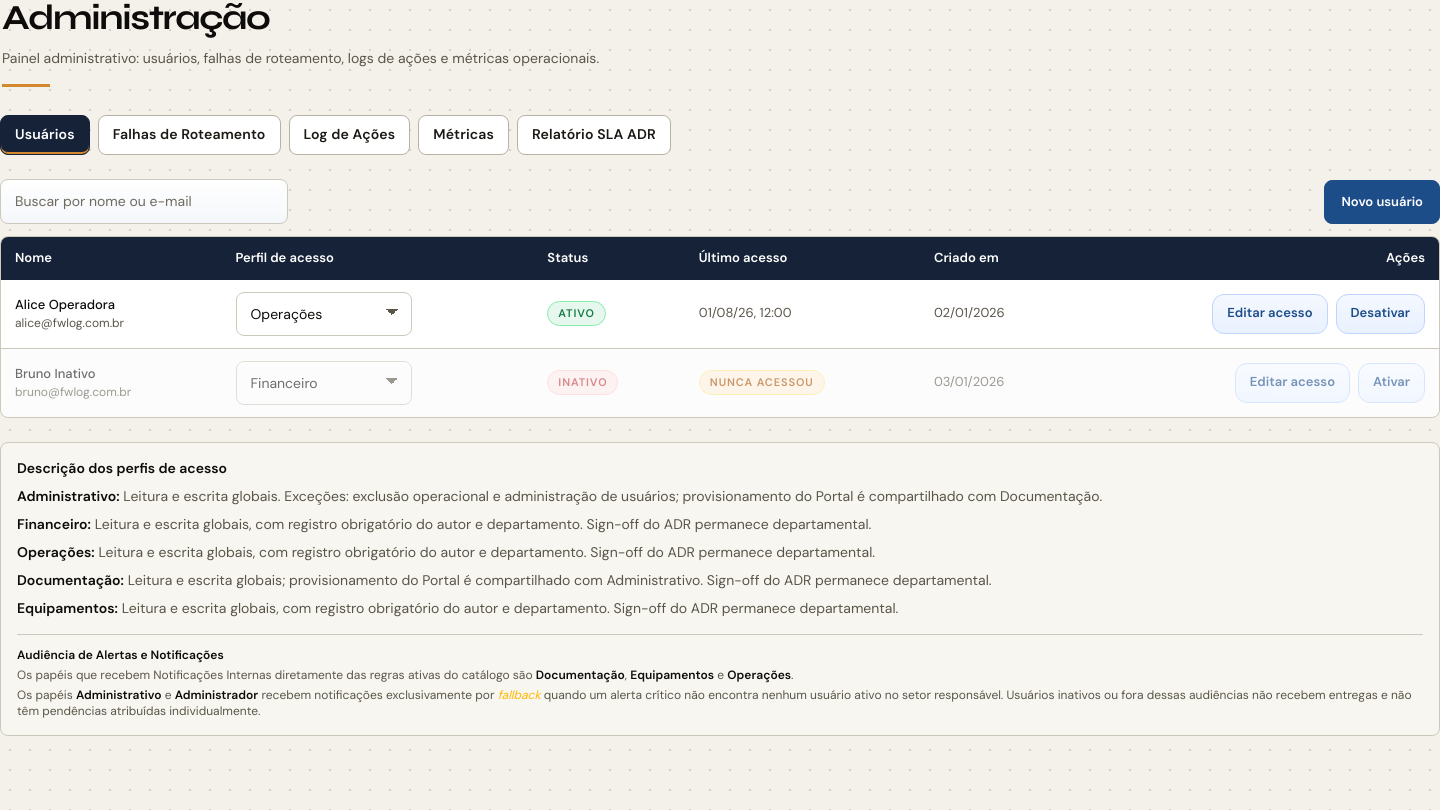
Test: recusa criacao quando a confirmacao de senha nao confere
Click the button "Novo usuário" at [1382, 202], box [1324, 180, 1439, 224]
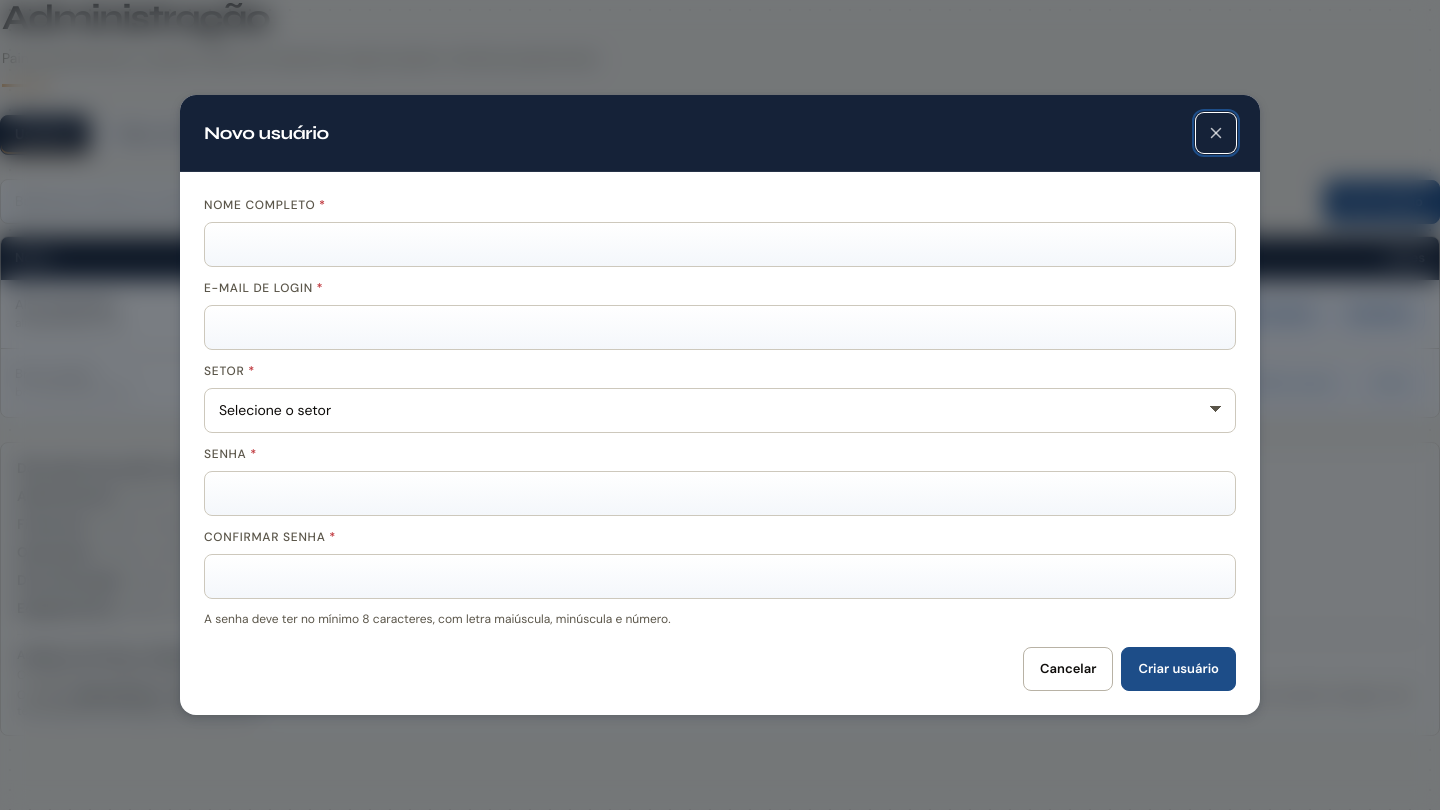
Type "Carla Nova" into the field labelled "Nome completo *" at [720, 244], box [204, 222, 1236, 267]
Type "carla@fwlog.com.br" into the field labelled "E-mail de login *" at [720, 328], box [204, 305, 1236, 350]
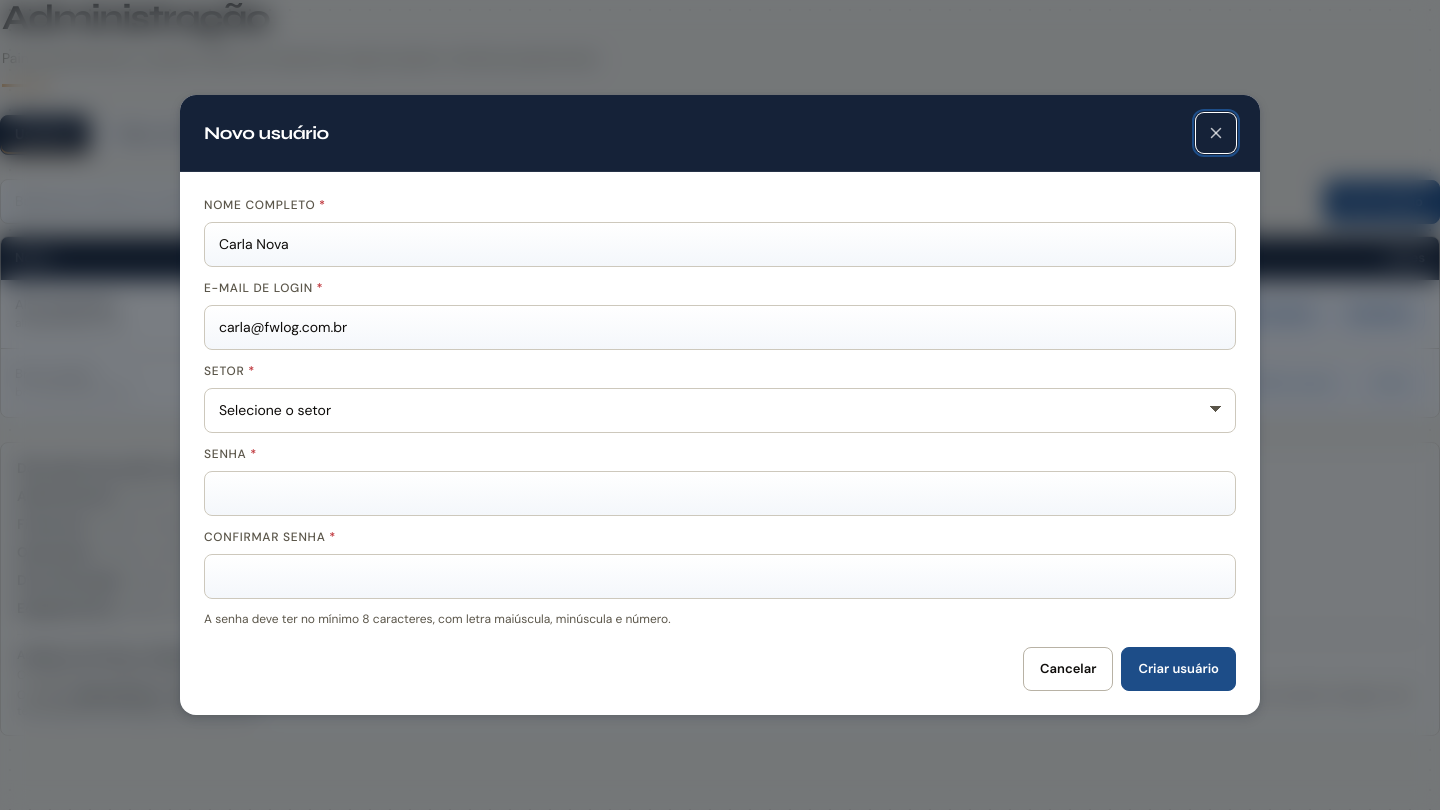
Select "Documentação" in the dropdown labelled "Setor *" at [720, 410], box [204, 388, 1236, 433]
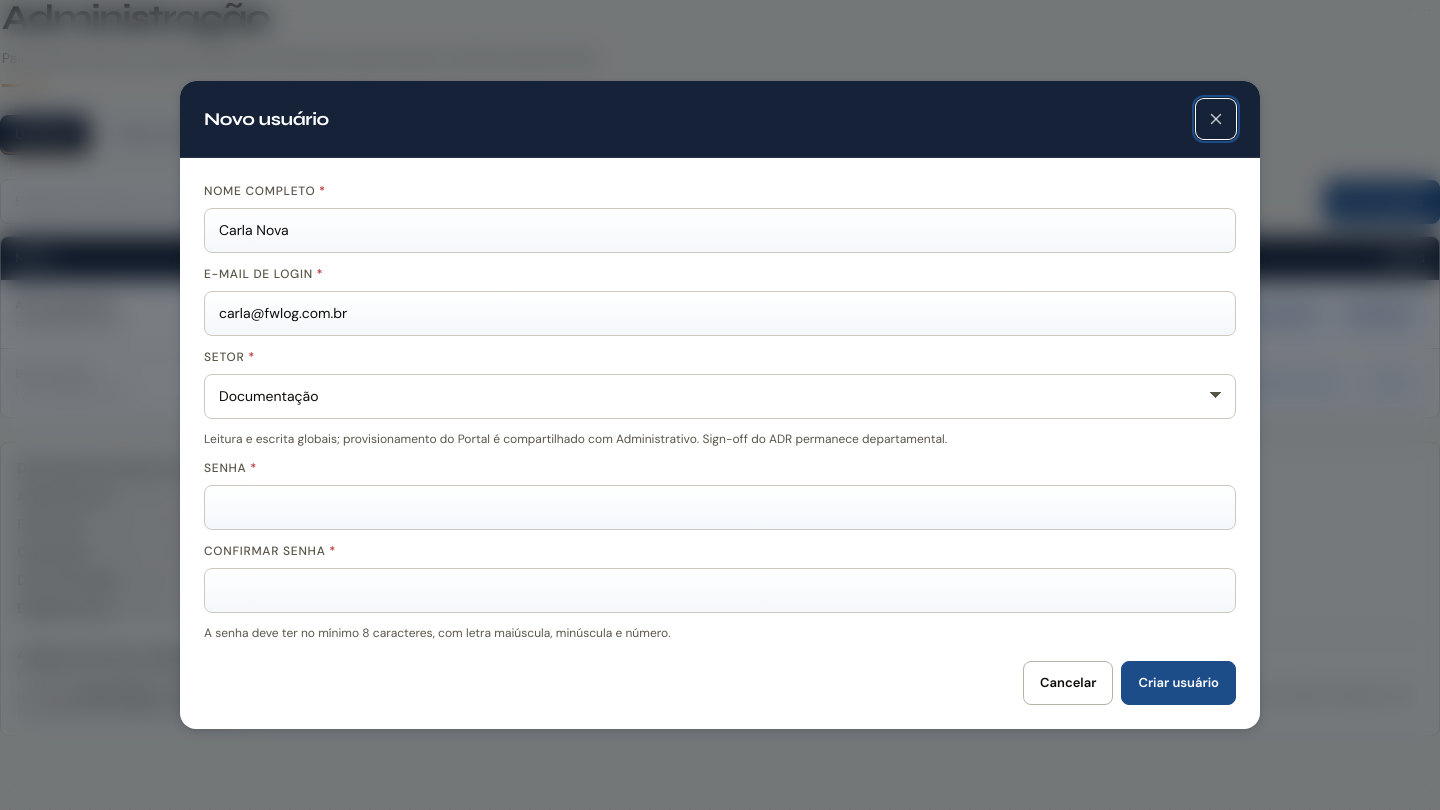
Type "Senha123" into the password field labelled "Senha *" at [720, 508], box [204, 485, 1236, 530]
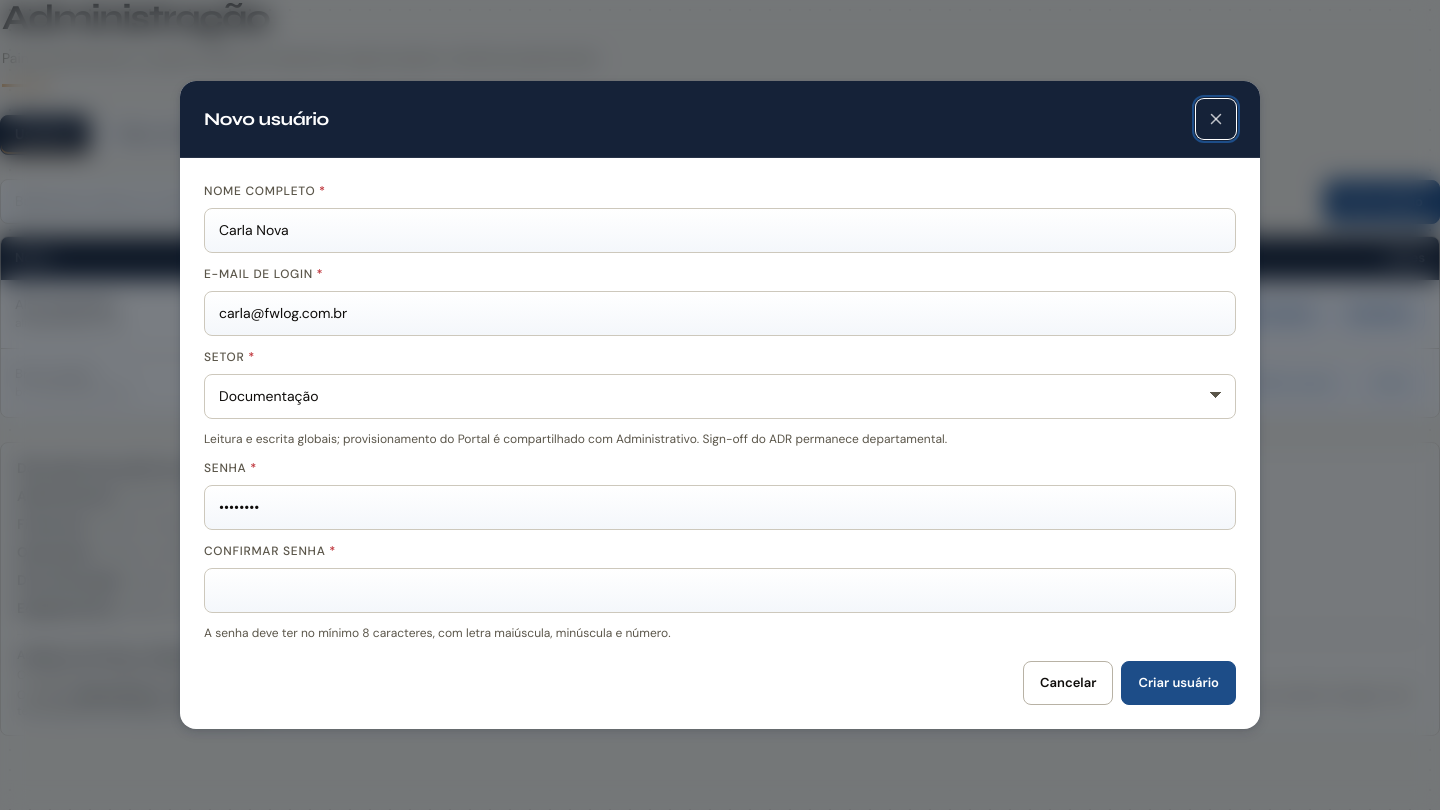
Type "Senha124" into the password field labelled "Confirmar senha *" at [720, 590], box [204, 568, 1236, 613]
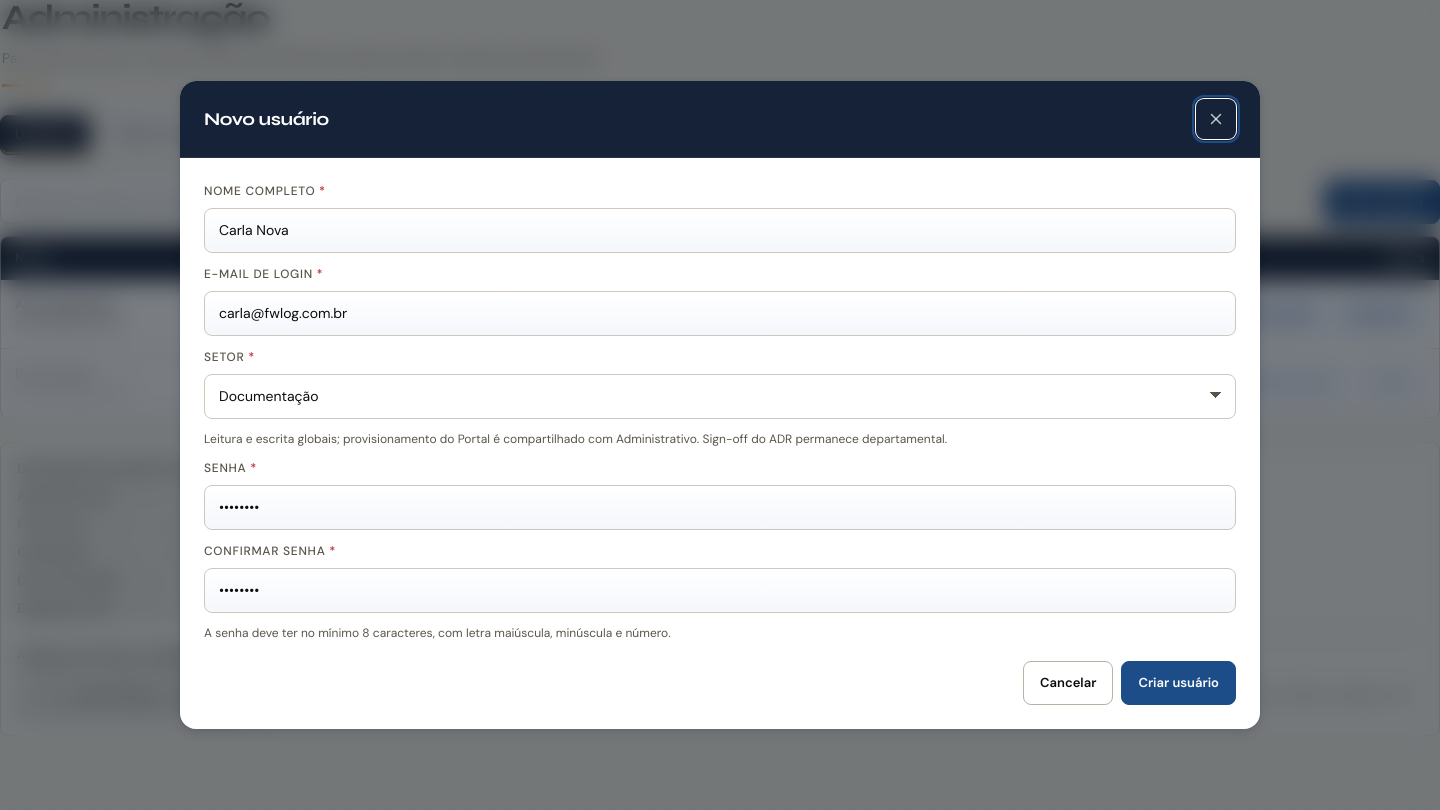
Click the button "Criar usuário" at [1179, 683], box [1121, 661, 1236, 705]
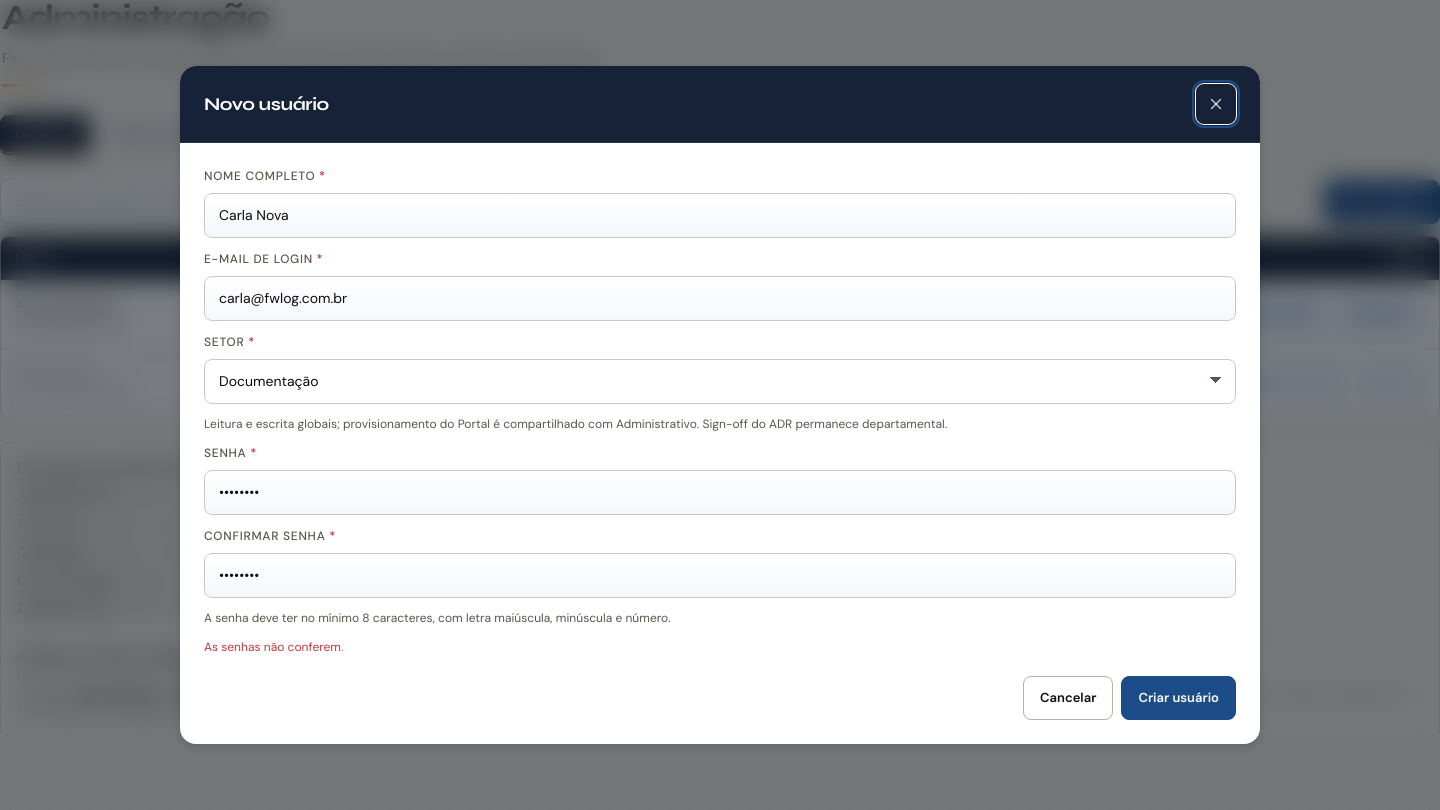
Check: the text "As senhas não conferem." is shown, box [204, 639, 343, 655]
